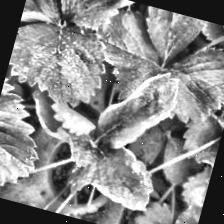Powdery Mildew Leaf: (91, 57, 186, 164), (14, 83, 108, 171), (62, 135, 163, 216), (195, 23, 224, 101), (72, 190, 127, 224)
